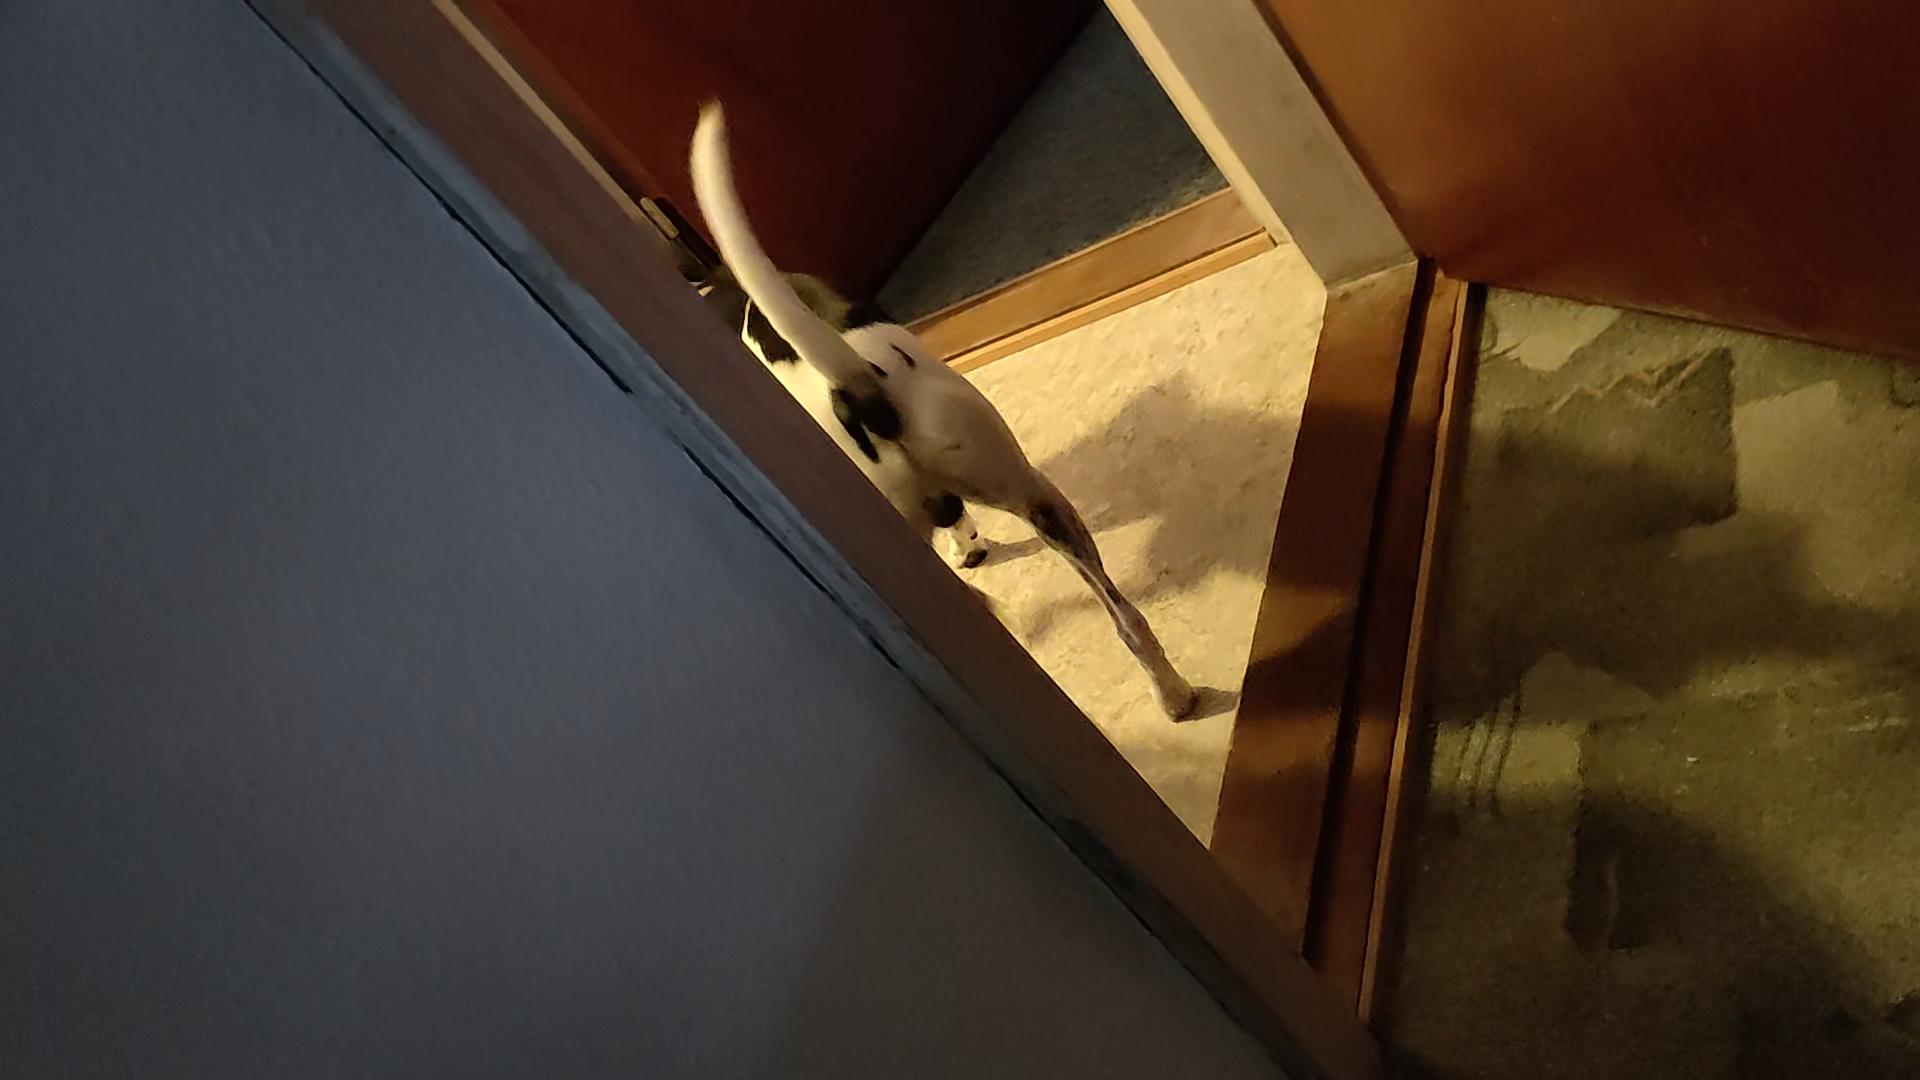Dog: (611, 73, 1216, 731)
